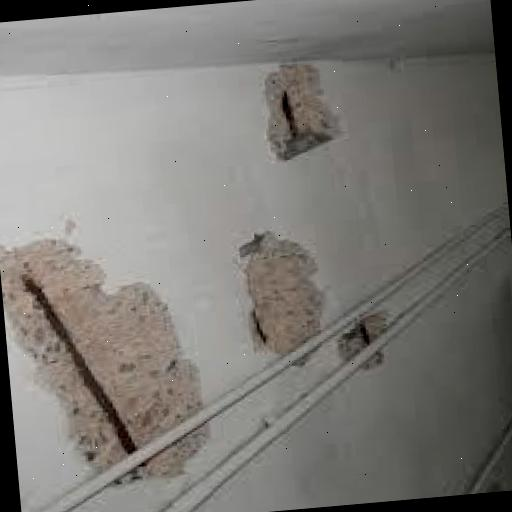spalling: (1, 239, 212, 489), (250, 231, 321, 368), (266, 61, 341, 157)
